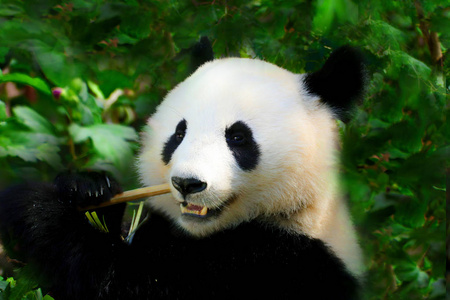panda: (1, 22, 377, 294)
